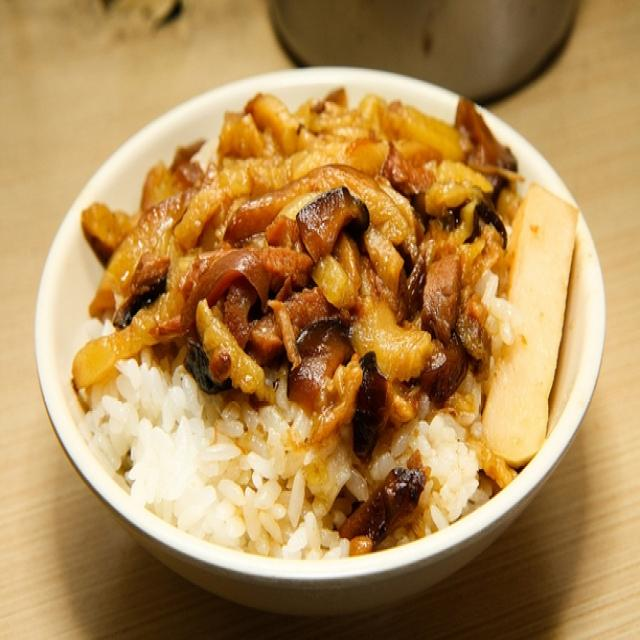猪肉菜式: (44, 54, 603, 584)
